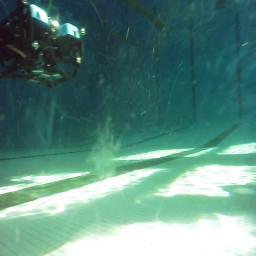front: (0, 4, 88, 86)
